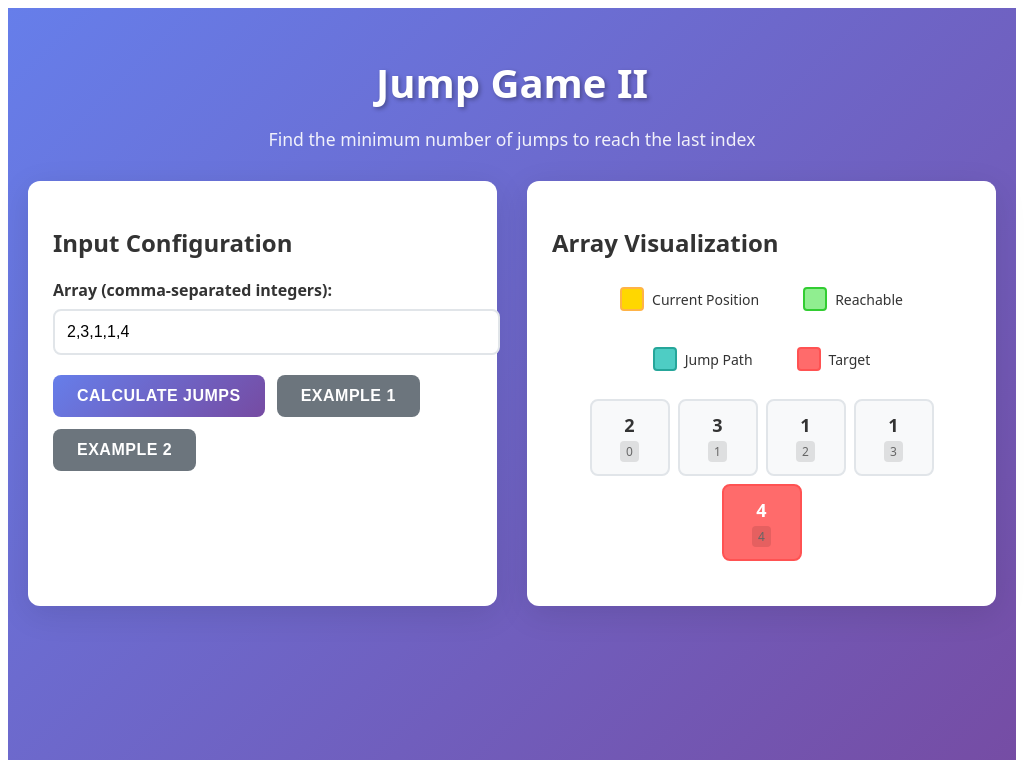
Test: JumpGame Component › handles two element array
This screenshot has width=1024, height=760.
Replace the text in the field with test id "array-input" with "1,0". click: (276, 332)
box: 53,309 -> 500,355
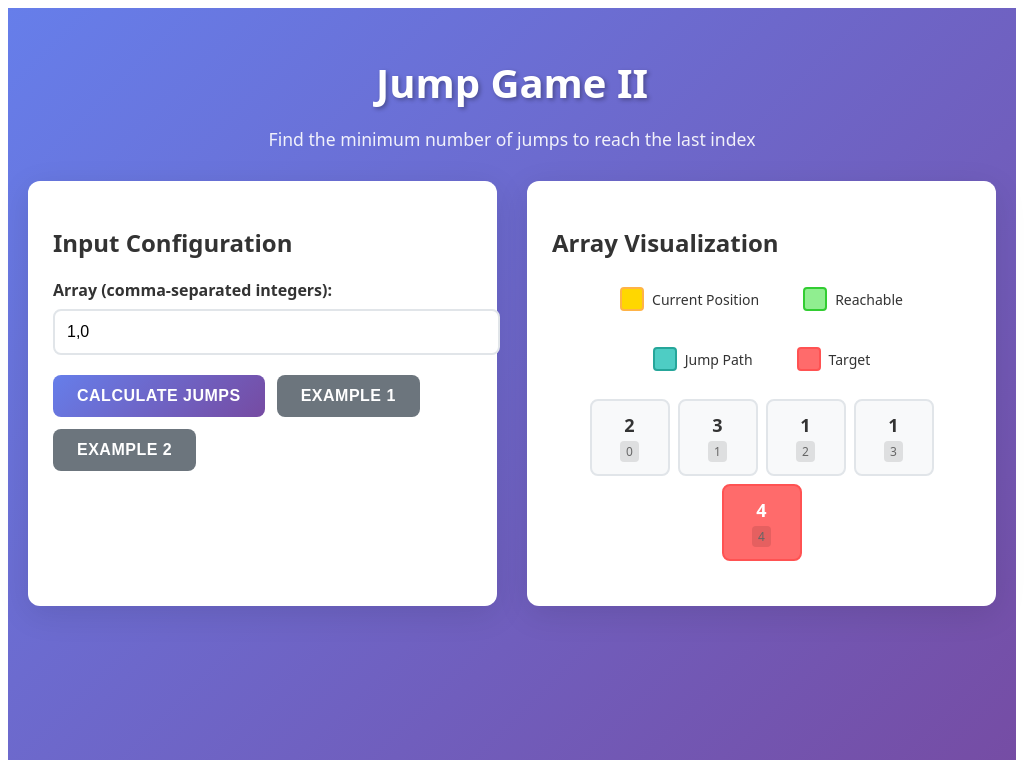
Click the button with test id "calculate-btn". click: (159, 396)
box: 53,375 -> 265,417
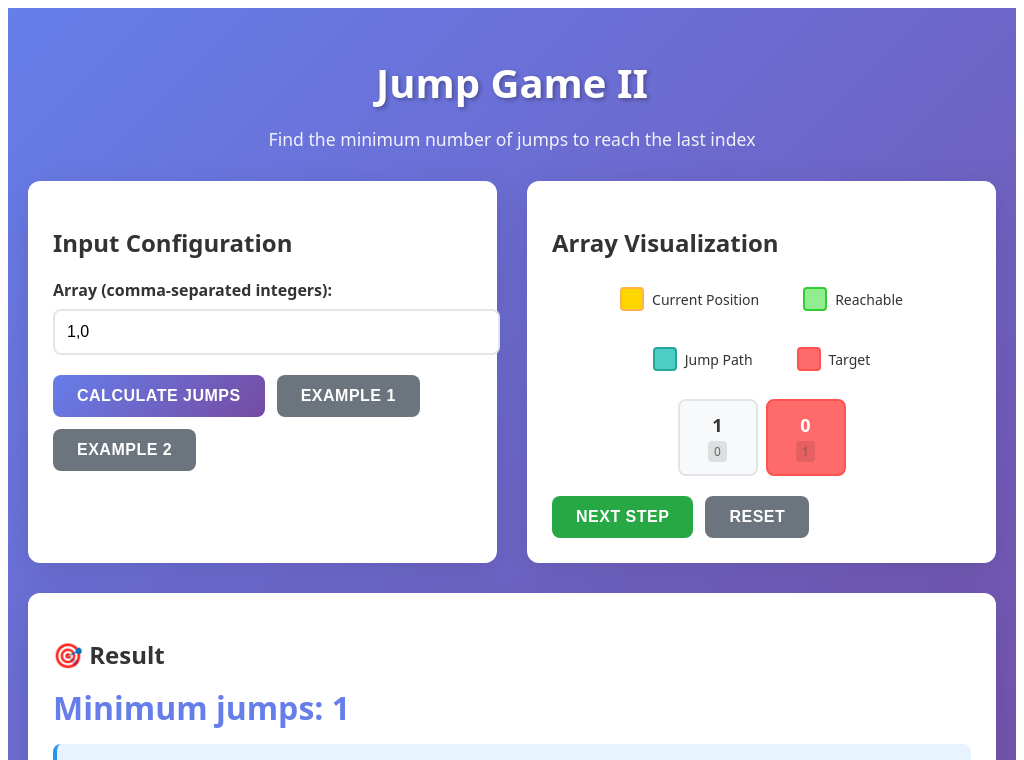
expect the text with test id "result-value" reads "Minimum jumps: 1": met, box 53,686 -> 350,729
